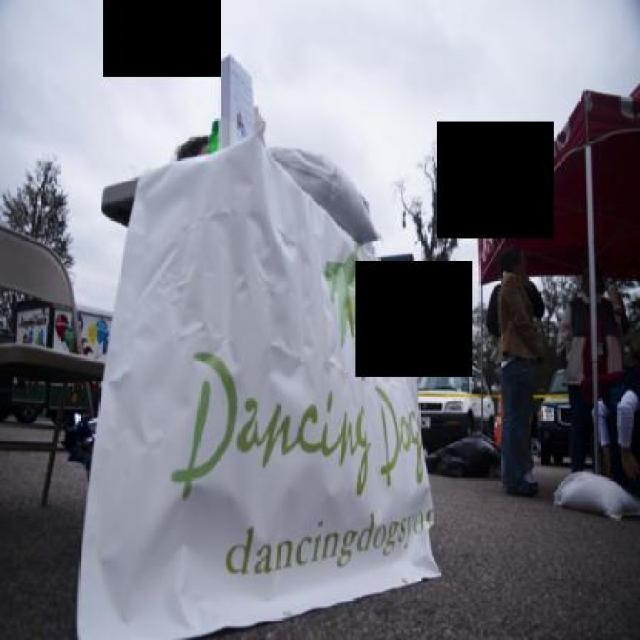plastic bag: (423, 428, 500, 477)
